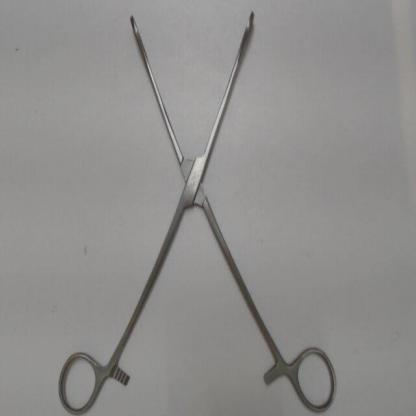Sponge Forceps: (50, 7, 342, 414)
